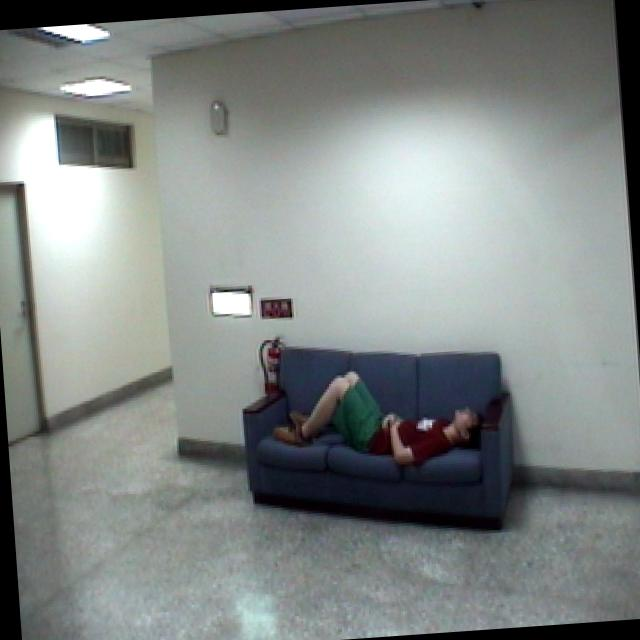lie: (256, 355, 486, 486)
